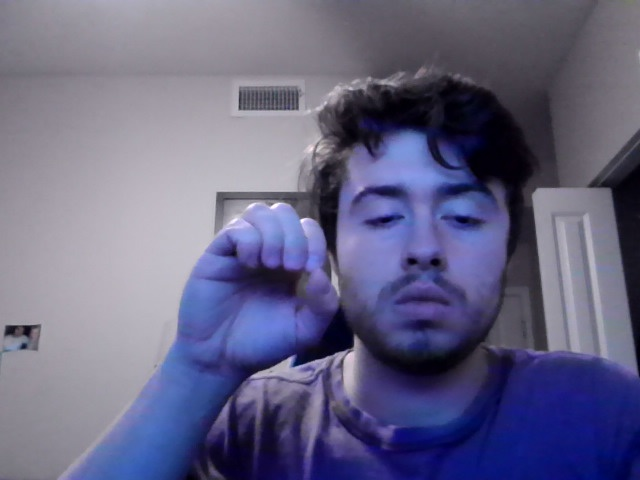o: (174, 200, 338, 402)
